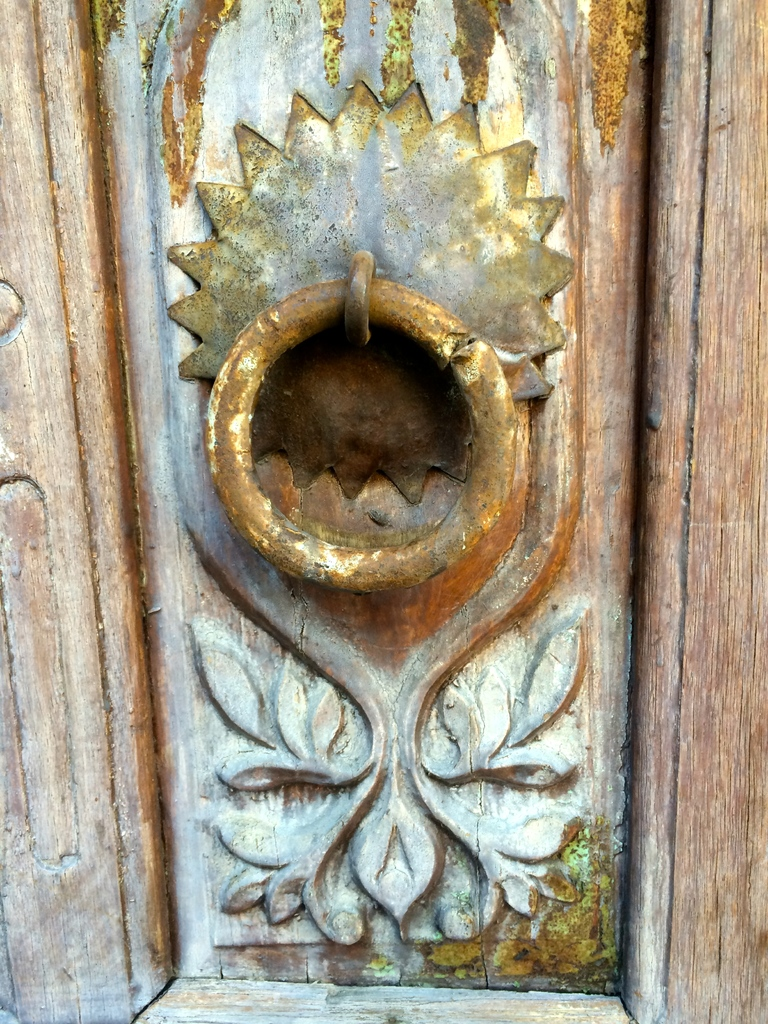face: (283, 321, 446, 625)
